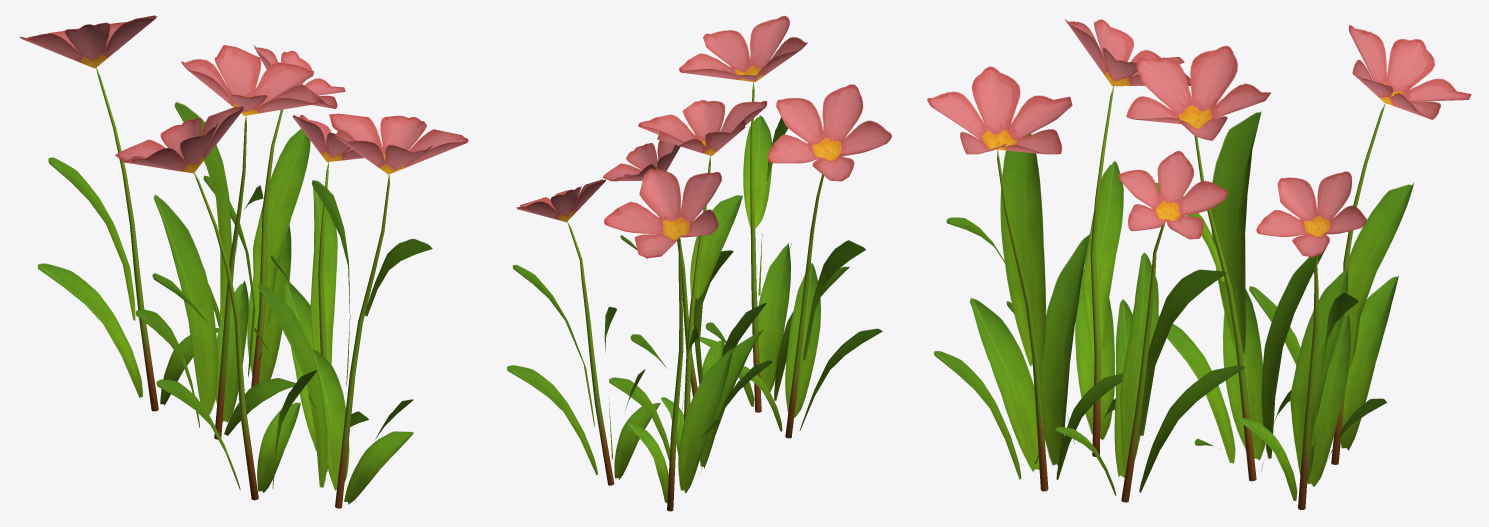
The model's file is red_flowers_fixed1.glb.
3 renders of one model, left to right at view 1: azimuth 30°, elevation 25°; view 2: azimuth 150°, elevation 25°; view 3: azimuth 270°, elevation 25°, orthographic. The views are drawn at different scales.
Parts seen in each view (by area): view 1: Flower_3_Group.001; view 2: Flower_3_Group.001; view 3: Flower_3_Group.001.
Part boxes in pixels (<box>): Flower_3_Group.001: <box>19,15,468,508</box>; Flower_3_Group.001: <box>507,16,891,511</box>; Flower_3_Group.001: <box>927,19,1471,509</box>.
Bounding box in the file's own units: 1.71 × 2.05 × 2.46.
2 materials, 2 textured.
